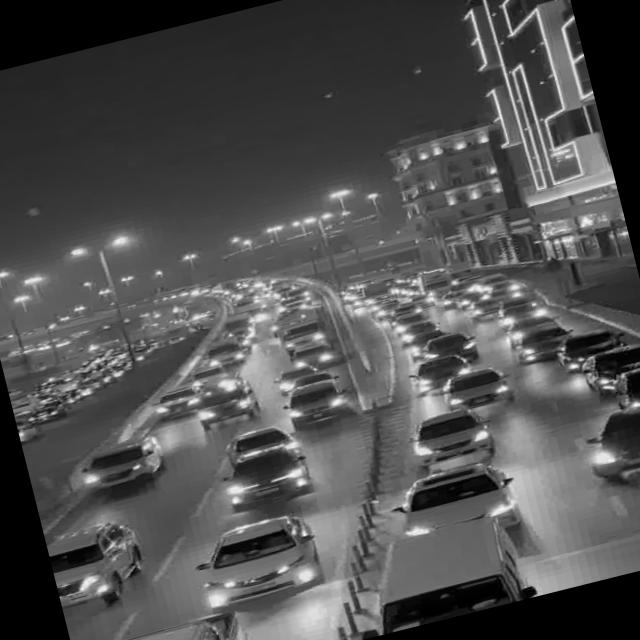ambulance: (181, 363, 266, 432)
